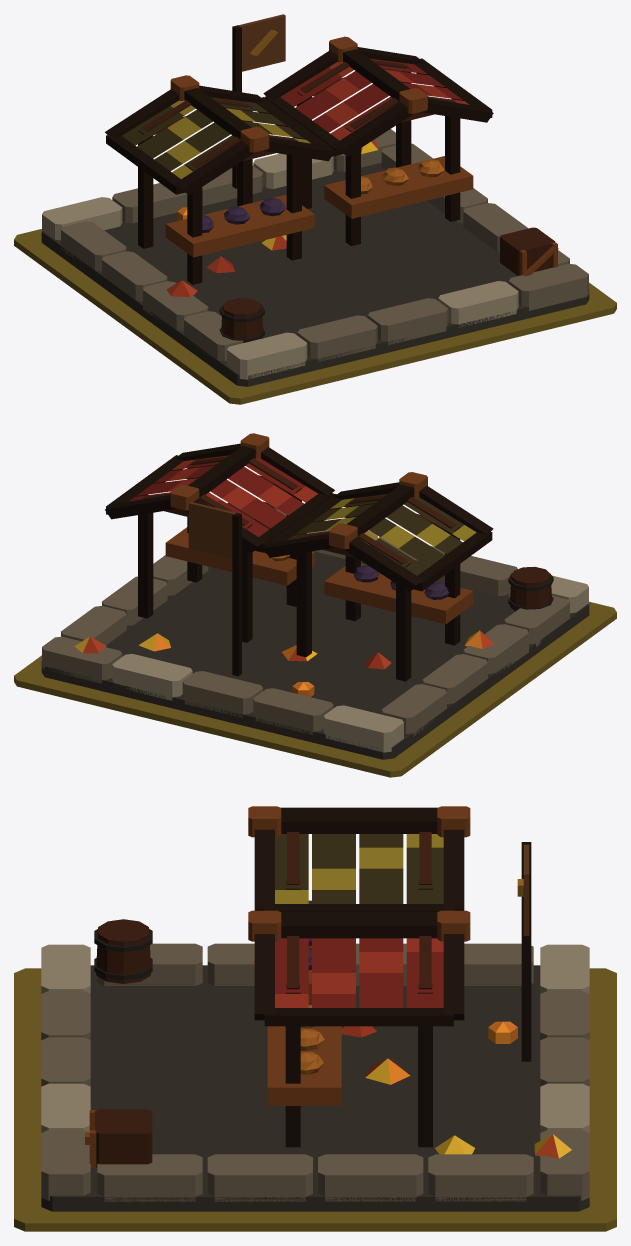
Rendered from market_t5.glb.
3 views of the same model, one above another, from view 1: azimuth 30°, elevation 25°; view 2: azimuth 150°, elevation 25°; view 3: azimuth 270°, elevation 25° (orthographic). The views are drawn at different scales.
Parts seen in each view (by area): view 1: MMR | market | T05 Architecture.001, MMR | market | Tier 05 Ground.001, MMR | market | T05 Banner Flag 1.001, MMR | market | T05 Autumn Dressing.001; view 2: MMR | market | T05 Architecture.001, MMR | market | Tier 05 Ground.001, MMR | market | T05 Banner Flag 1.001, MMR | market | T05 Autumn Dressing.001; view 3: MMR | market | T05 Architecture.001, MMR | market | Tier 05 Ground.001, MMR | market | T05 Autumn Dressing.001, MMR | market | T05 Banner Flag 1.001.
Boxes of the visible parts, x1,y1,x2,y2 form: MMR | market | T05 Architecture.001: (41, 25, 589, 386); MMR | market | Tier 05 Ground.001: (14, 229, 616, 404); MMR | market | T05 Banner Flag 1.001: (238, 14, 285, 71); MMR | market | T05 Autumn Dressing.001: (166, 140, 378, 297); MMR | market | T05 Architecture.001: (41, 433, 589, 759); MMR | market | Tier 05 Ground.001: (14, 601, 616, 777); MMR | market | T05 Banner Flag 1.001: (188, 501, 236, 558); MMR | market | T05 Autumn Dressing.001: (74, 630, 494, 696); MMR | market | T05 Architecture.001: (41, 806, 589, 1211); MMR | market | Tier 05 Ground.001: (14, 968, 616, 1231); MMR | market | T05 Autumn Dressing.001: (253, 961, 571, 1158); MMR | market | T05 Banner Flag 1.001: (523, 844, 529, 935).
Bounding box in the file's own units: 3.3 × 1.57 × 3.3.
Materials: 1 (1 with a texture image).
